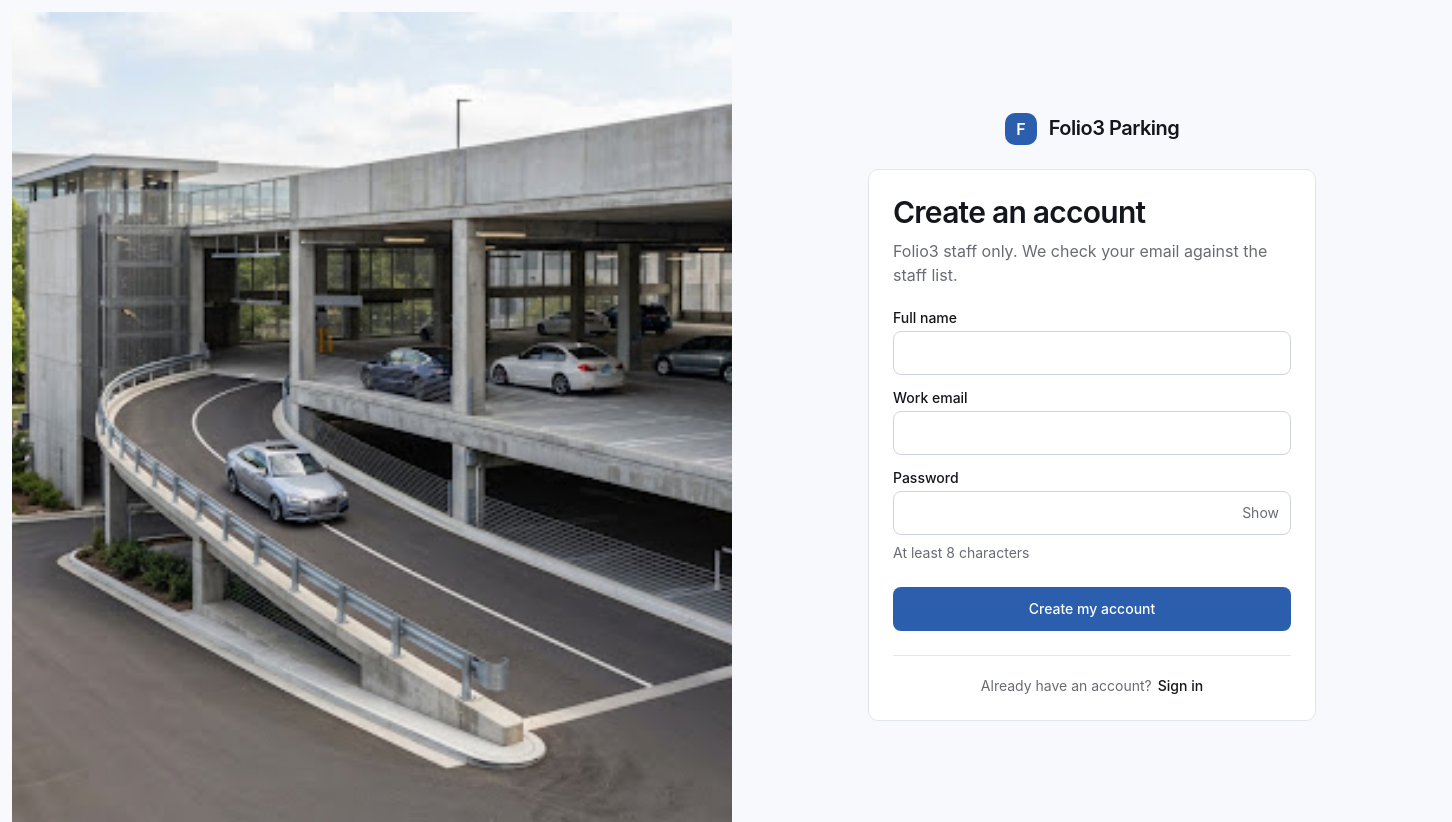
Test: account access › AC_1_1_SendsEnteredAccountDetailsAndShowsConfirmation
This screenshot has width=1452, height=822.
Step 1. Type "Nadia Farooq" into the field labelled "Full name" → (1092, 353), box x1=893 y1=331 x2=1291 y2=375
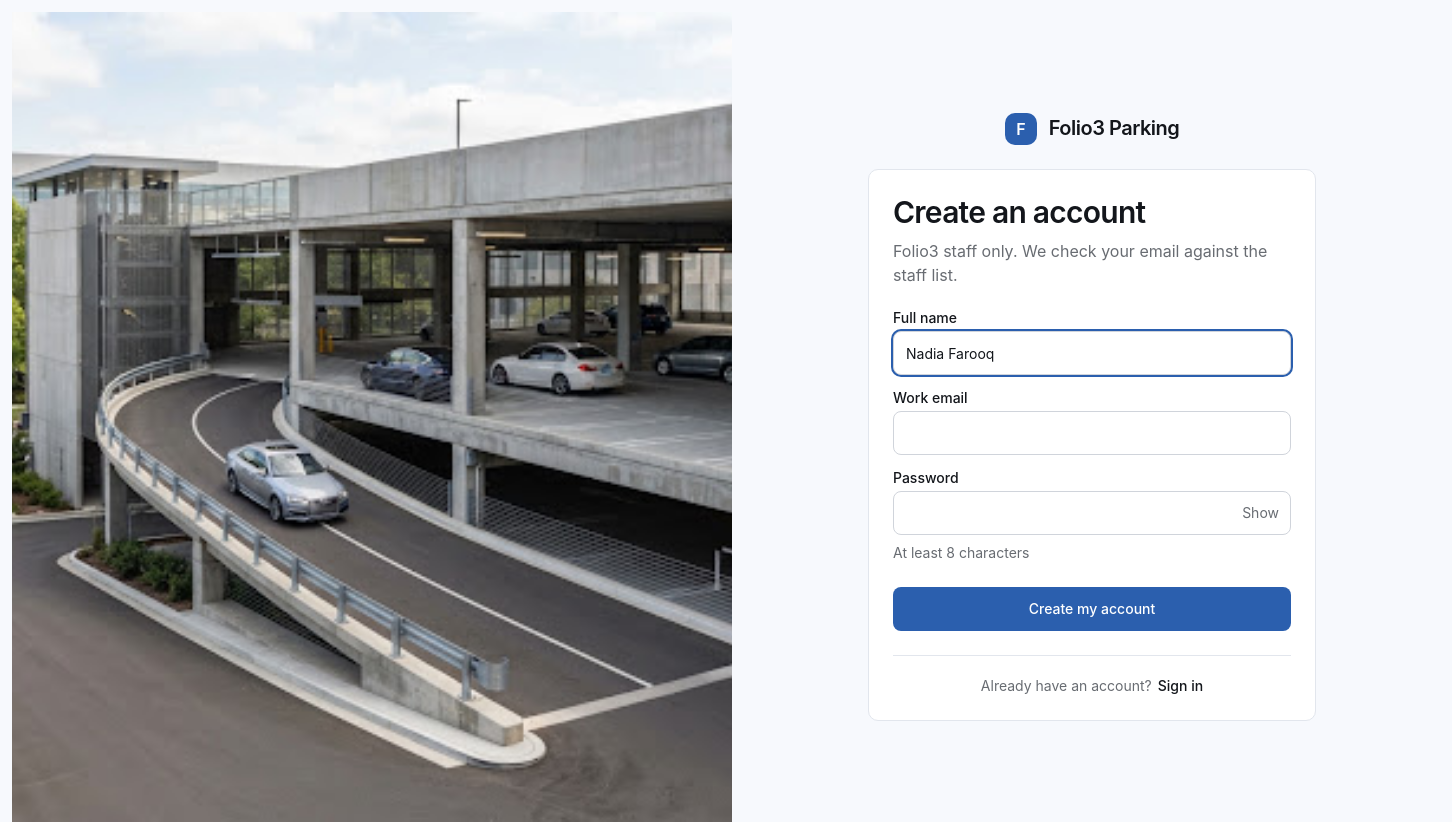
Step 2. Type "nadia.farooq@folio3.com" into the field labelled "Work email" → (1092, 433), box x1=893 y1=411 x2=1291 y2=455
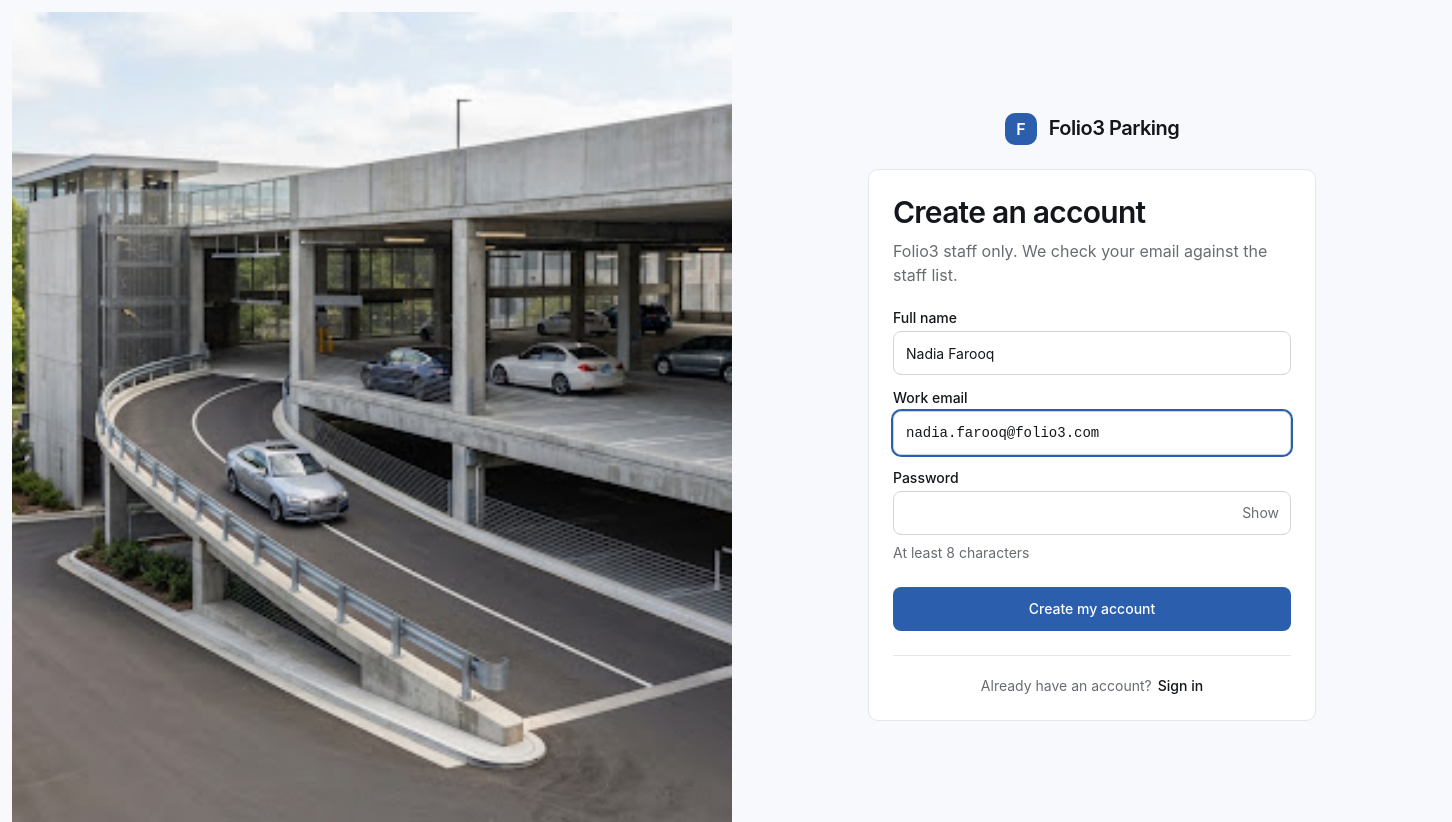
Step 3. Type "SecureParking2026" into the password field labelled "Password" → (1092, 513), box x1=893 y1=491 x2=1291 y2=535
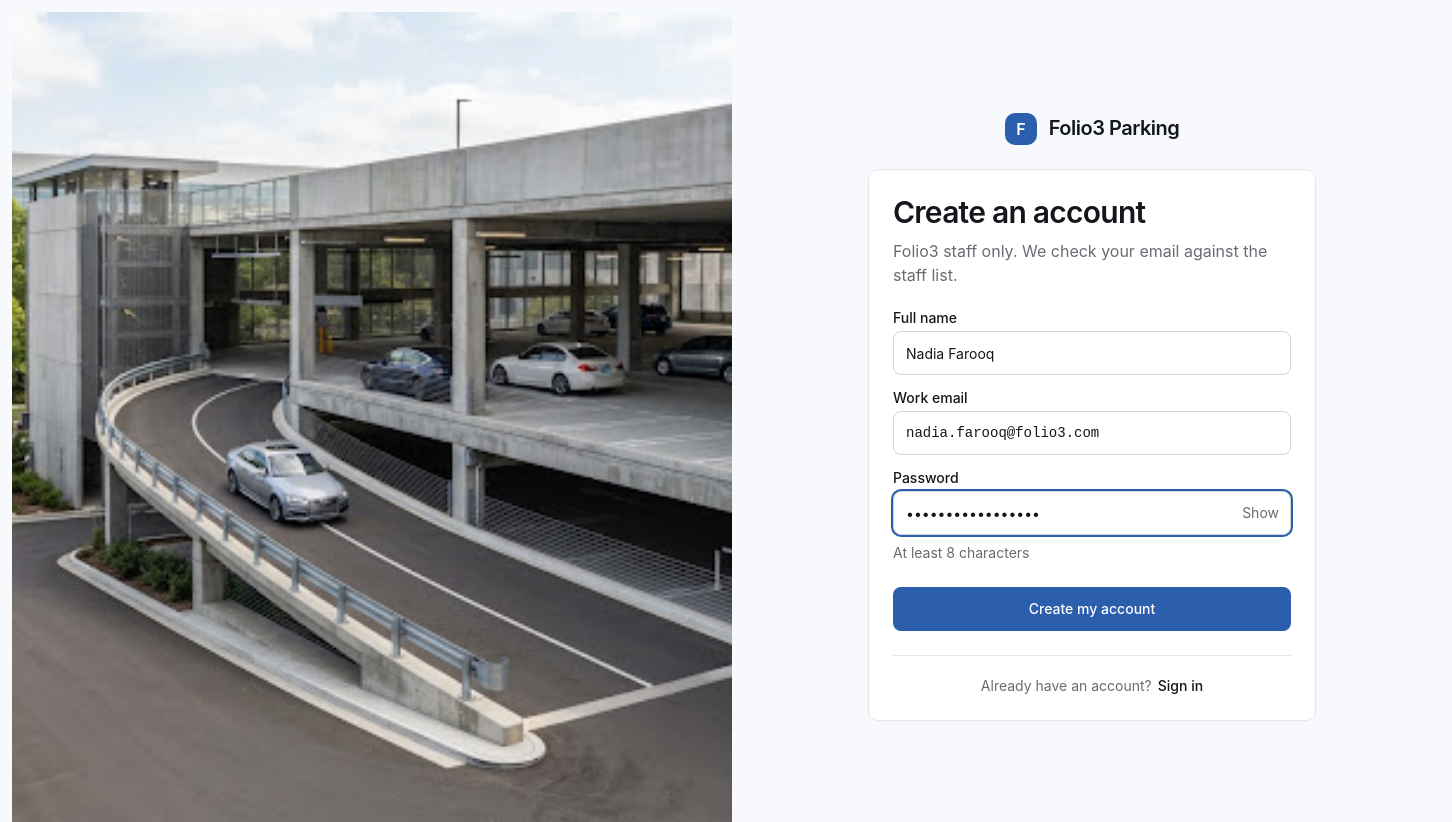
Step 4. Click the button "Create my account" → (1092, 609), box x1=893 y1=587 x2=1291 y2=631
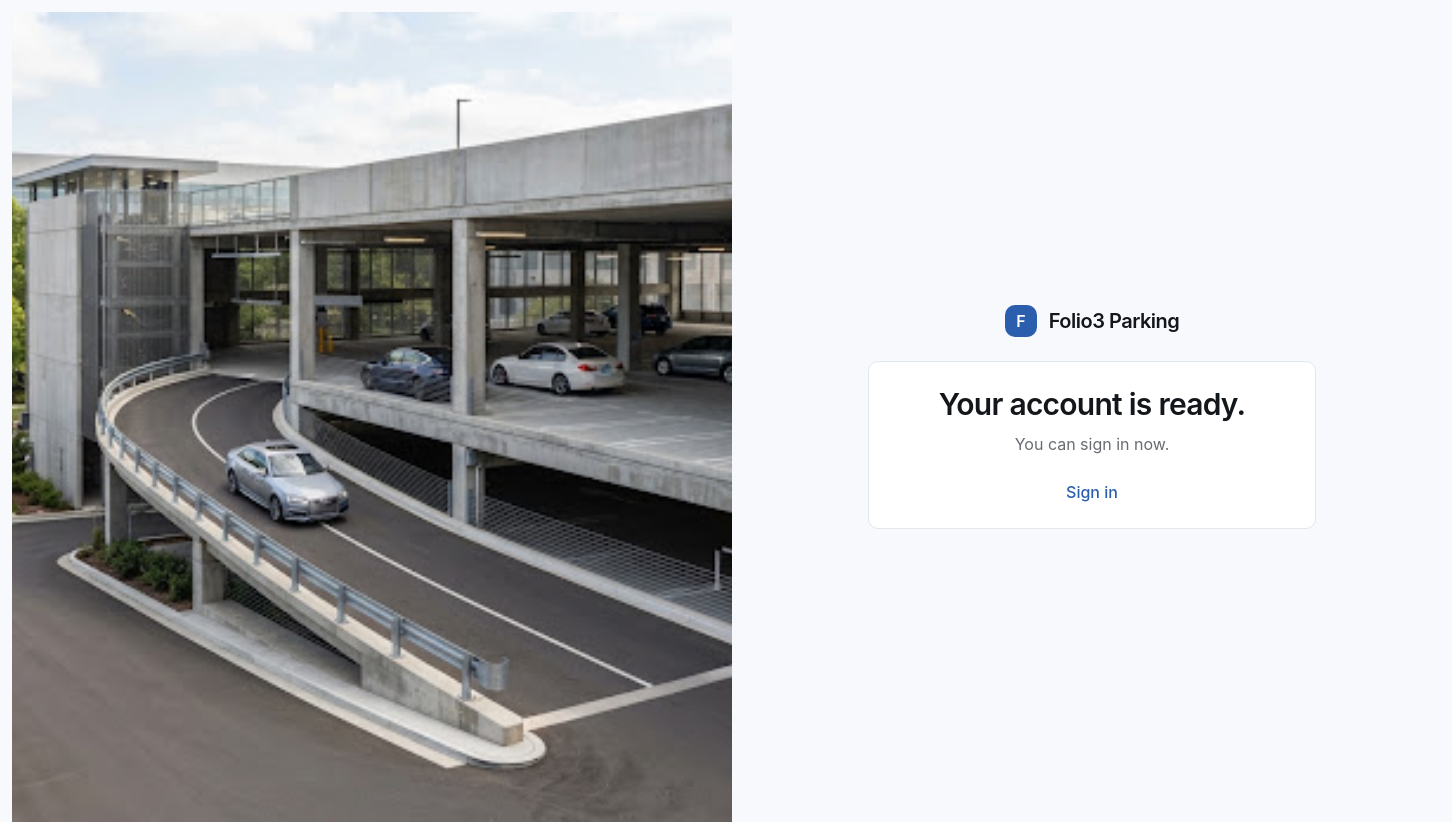
Result: the heading "Your account is ready." is shown at x1=939 y1=386 x2=1245 y2=422
Result: the text "You can sign in now." is shown at x1=1015 y1=434 x2=1169 y2=454
Result: the link "Sign in" is shown at x1=1066 y1=482 x2=1118 y2=502
